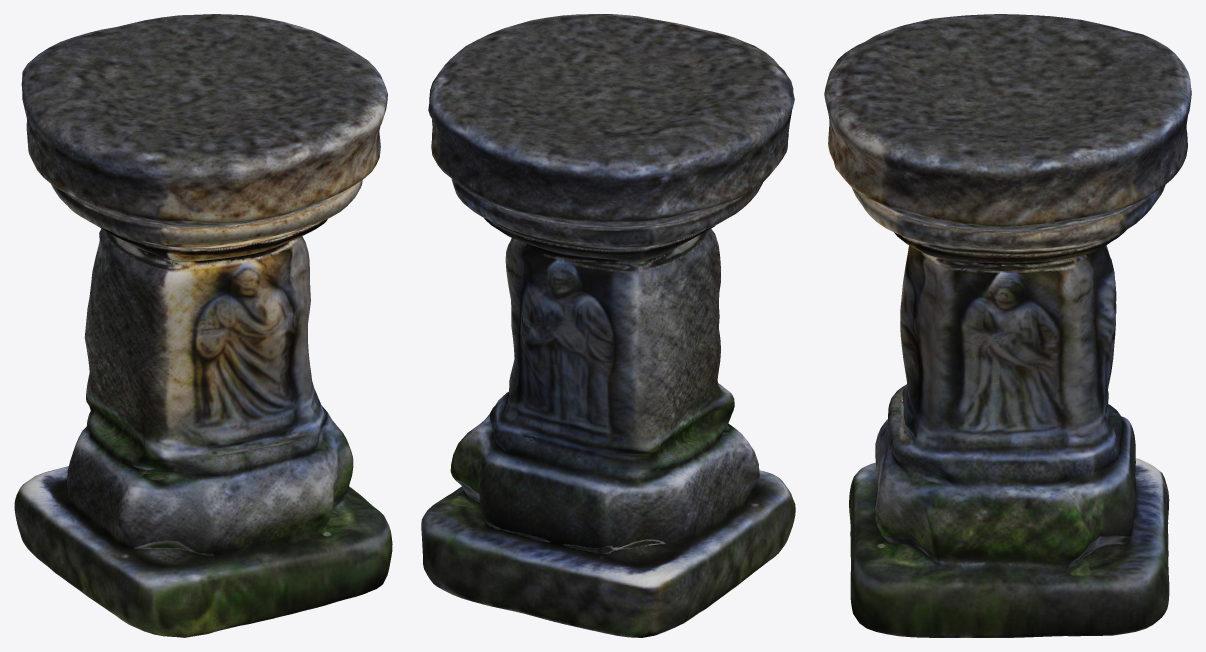
File: Pedestal 2.fbx
3 renders of one model, left to right at view 1: azimuth 30°, elevation 25°; view 2: azimuth 150°, elevation 25°; view 3: azimuth 270°, elevation 25°, orthographic. The views are drawn at different scales.
Visible parts, largest first — view 1: mesh; view 2: mesh; view 3: mesh.
Part boxes in pixels (x1,y1,x2,y2): mesh: (14, 14, 392, 637); mesh: (421, 14, 795, 637); mesh: (824, 14, 1191, 637).
Bounding box in the file's own units: 68.31 × 99.91 × 67.48.
